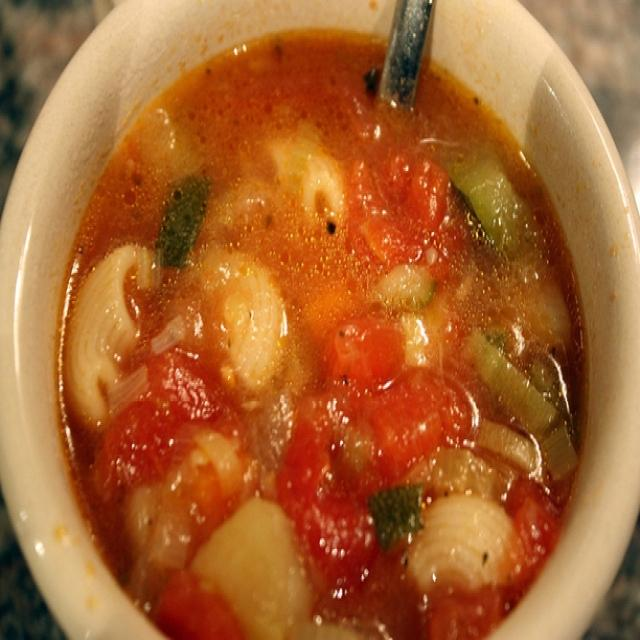汤锅炖物: (20, 8, 617, 630)
